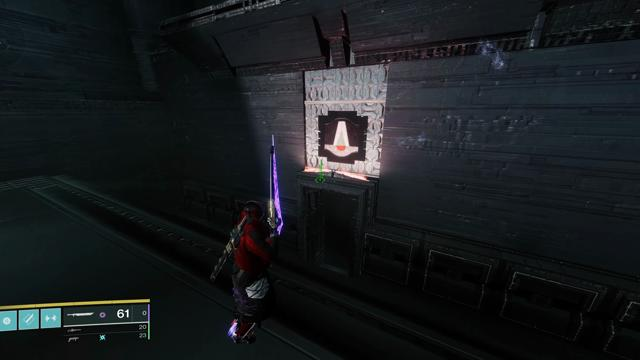enter: (324, 118, 361, 158)
